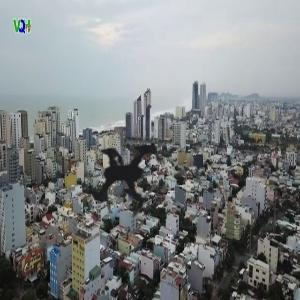drone: (16, 64, 246, 294)
